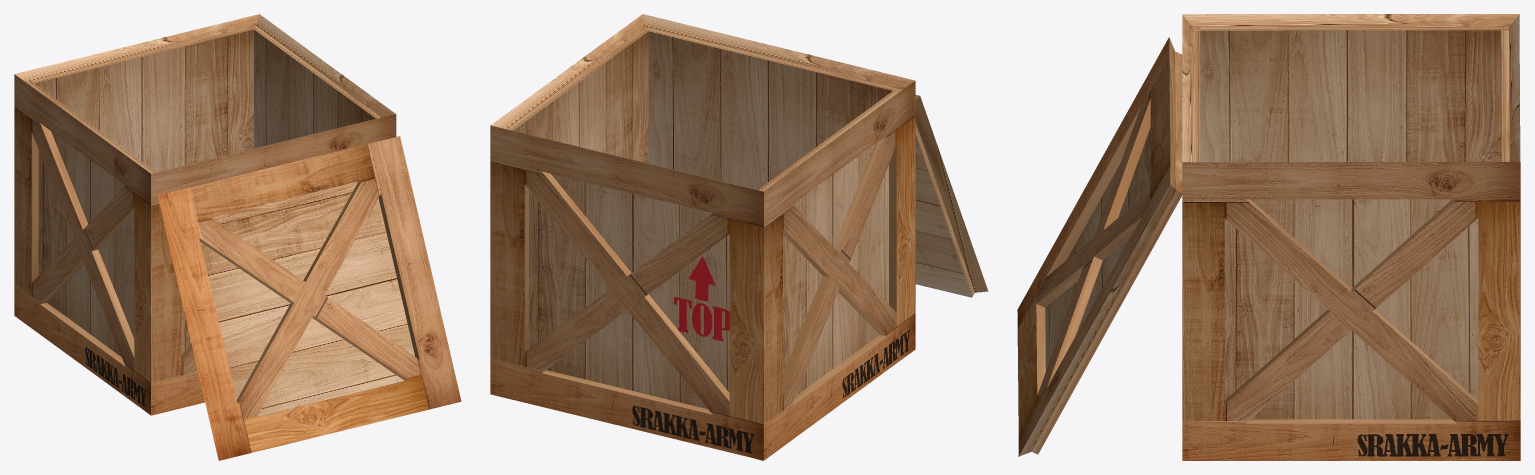
File: caisseBois01Opened.fbx
The picture shows the model from 3 angles, left to right: view 1: azimuth 30°, elevation 25°; view 2: azimuth 150°, elevation 25°; view 3: azimuth 270°, elevation 25°; orthographic projection. The views are drawn at different scales.
Parts seen in each view (by area): view 1: BoxTop, BoxP4, BoxP3, BoxP2, BoxP1; view 2: BoxP3, BoxP4, BoxP2, BoxP1, BoxTop; view 3: BoxP1, BoxP4, BoxTop, BoxP3, BoxP2.
Part boxes in pixels (bbox=[...]): BoxTop: bbox=[157, 136, 461, 460]; BoxP4: bbox=[14, 74, 156, 415]; BoxP3: bbox=[14, 14, 259, 315]; BoxP2: bbox=[151, 114, 396, 415]; BoxP1: bbox=[254, 14, 395, 148]; BoxP3: bbox=[490, 125, 763, 460]; BoxP4: bbox=[758, 81, 915, 460]; BoxP2: bbox=[642, 14, 915, 349]; BoxP1: bbox=[491, 14, 648, 163]; BoxTop: bbox=[915, 95, 988, 297]; BoxP1: bbox=[1182, 162, 1520, 460]; BoxP4: bbox=[1182, 14, 1519, 161]; BoxTop: bbox=[1017, 37, 1182, 456]; BoxP3: bbox=[1501, 14, 1520, 363]; BoxP2: bbox=[1182, 15, 1200, 161].
Size of the model in its own units: 93.29 by 87.96 by 134.
